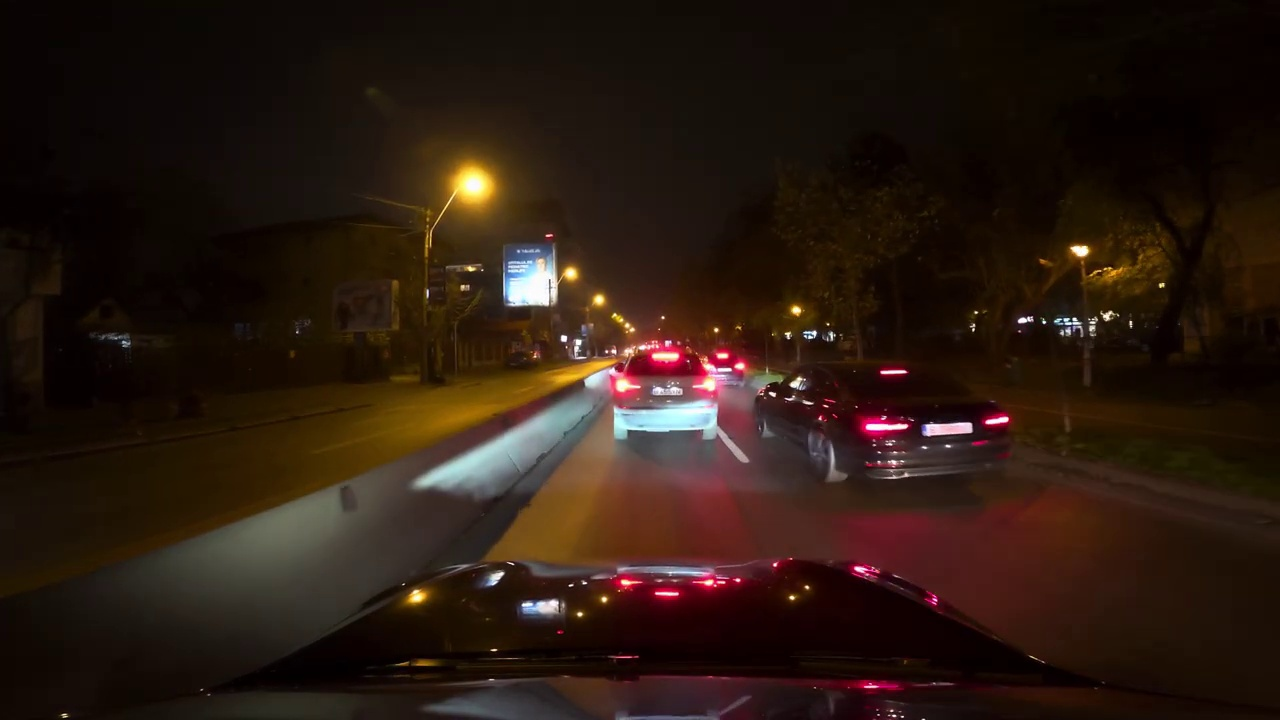acesa: (449, 165, 496, 211), (589, 291, 610, 312)
